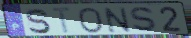2: (159, 5, 184, 33)
N: (102, 6, 133, 34)
O: (77, 7, 105, 35)
S: (129, 6, 161, 34), (24, 8, 52, 35)
T: (50, 7, 75, 36)
